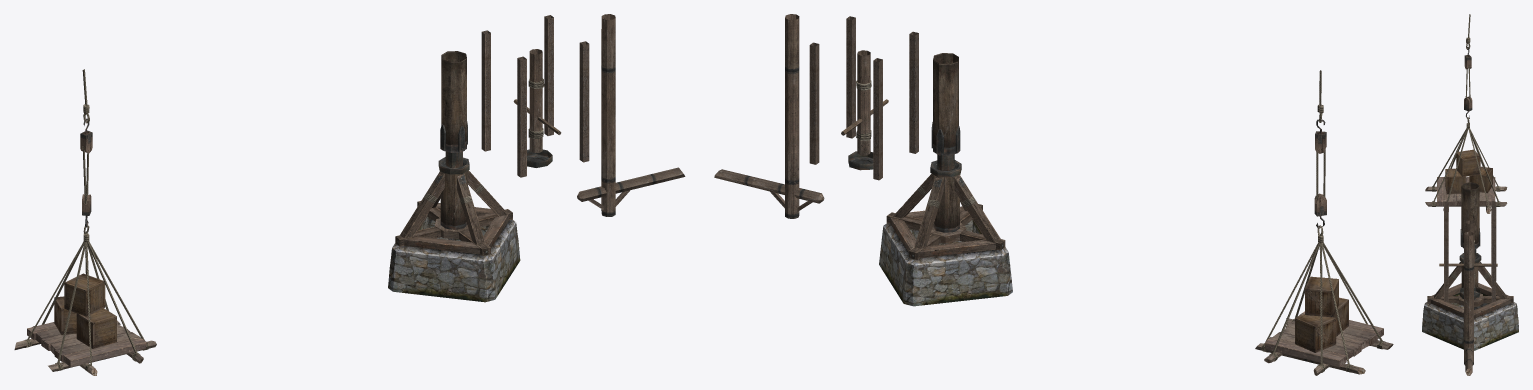
Rendered from Crane.fbx.
3 renders of one model, left to right at view 1: azimuth 30°, elevation 25°; view 2: azimuth 150°, elevation 25°; view 3: azimuth 270°, elevation 25°, orthographic. The views are drawn at different scales.
Visible parts, largest first — view 1: LV_Common_Object_Crane01A_SM_NWCJOE; view 2: LV_Common_Object_Crane01A_SM_NWCJOE; view 3: LV_Common_Object_Crane01A_SM_NWCJOE.
Boxes of the visible parts, left/top/right/bottom form: LV_Common_Object_Crane01A_SM_NWCJOE: left=14, top=14, right=685, bottom=375; LV_Common_Object_Crane01A_SM_NWCJOE: left=714, top=14, right=1393, bottom=375; LV_Common_Object_Crane01A_SM_NWCJOE: left=1422, top=14, right=1518, bottom=375.
Bounding box in the file's own units: 414 × 178 × 79.7.
